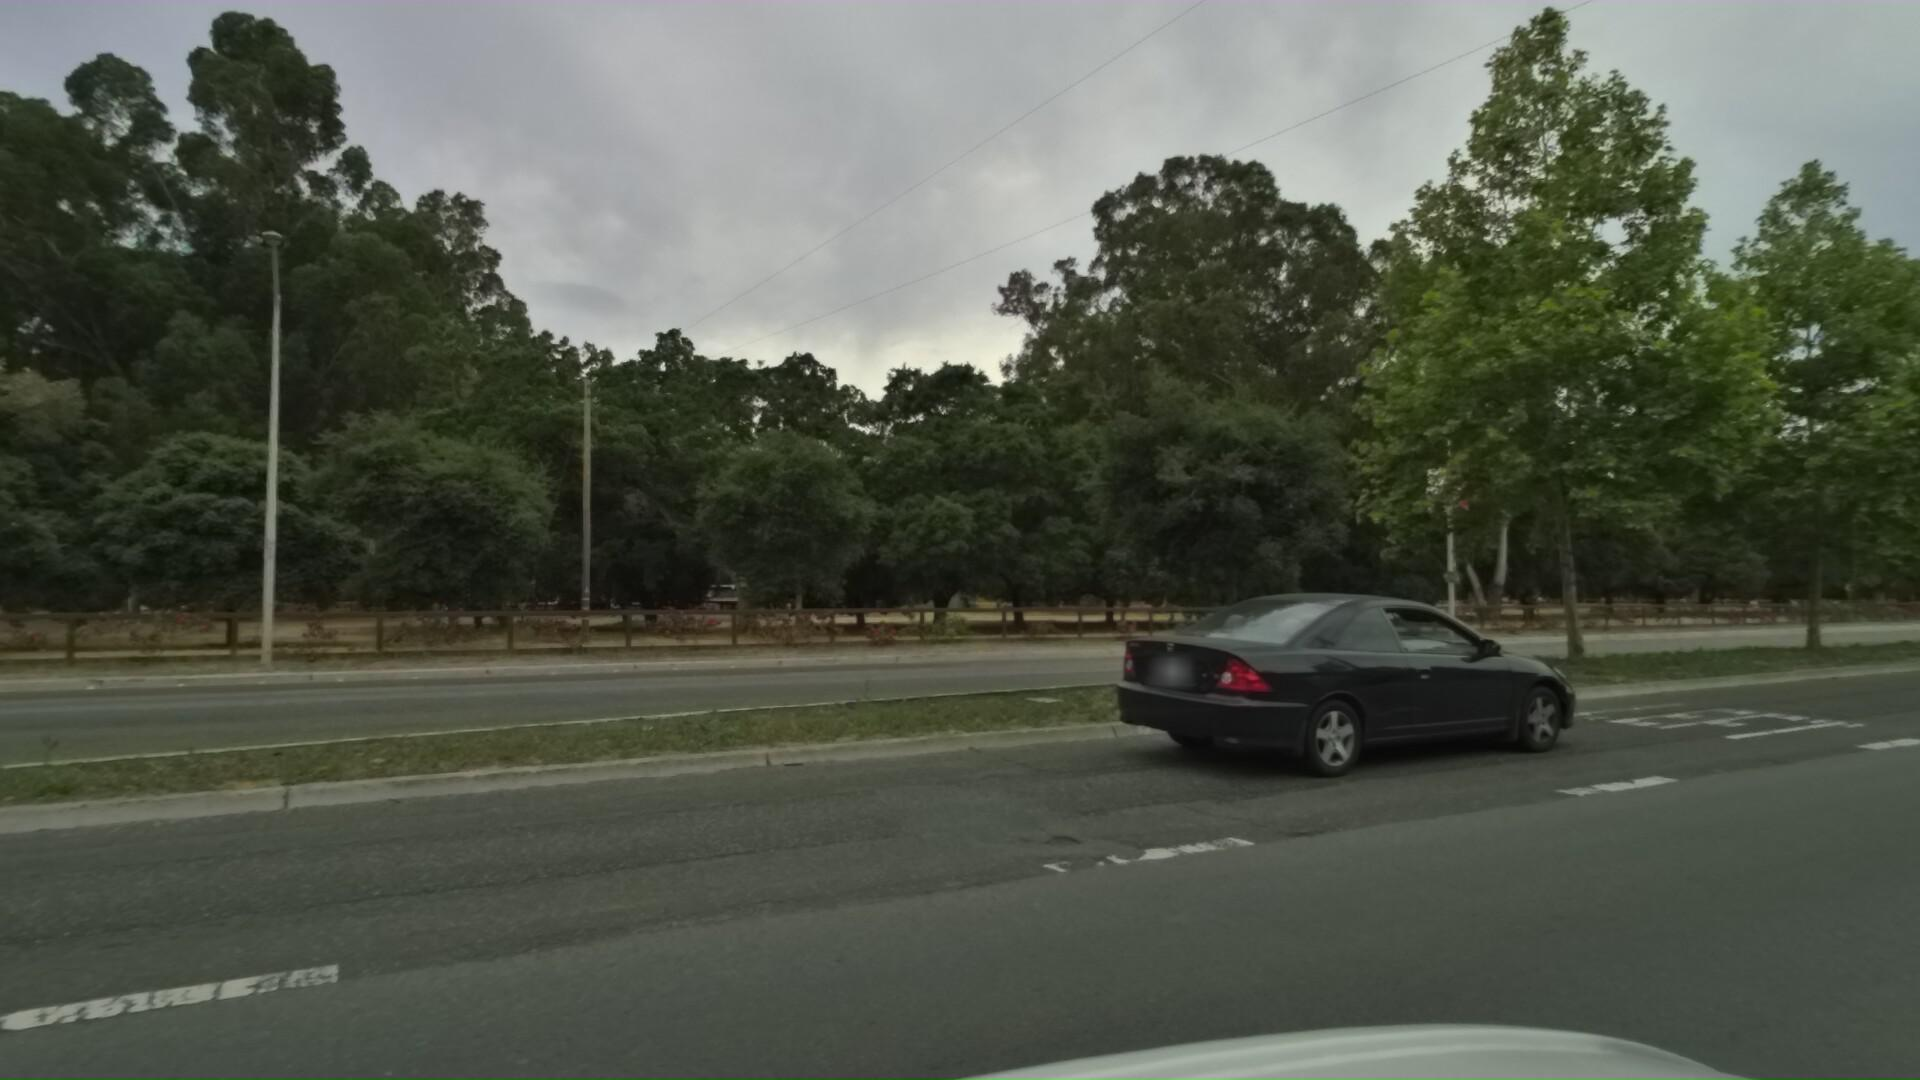car: (1104, 568, 1615, 791)
